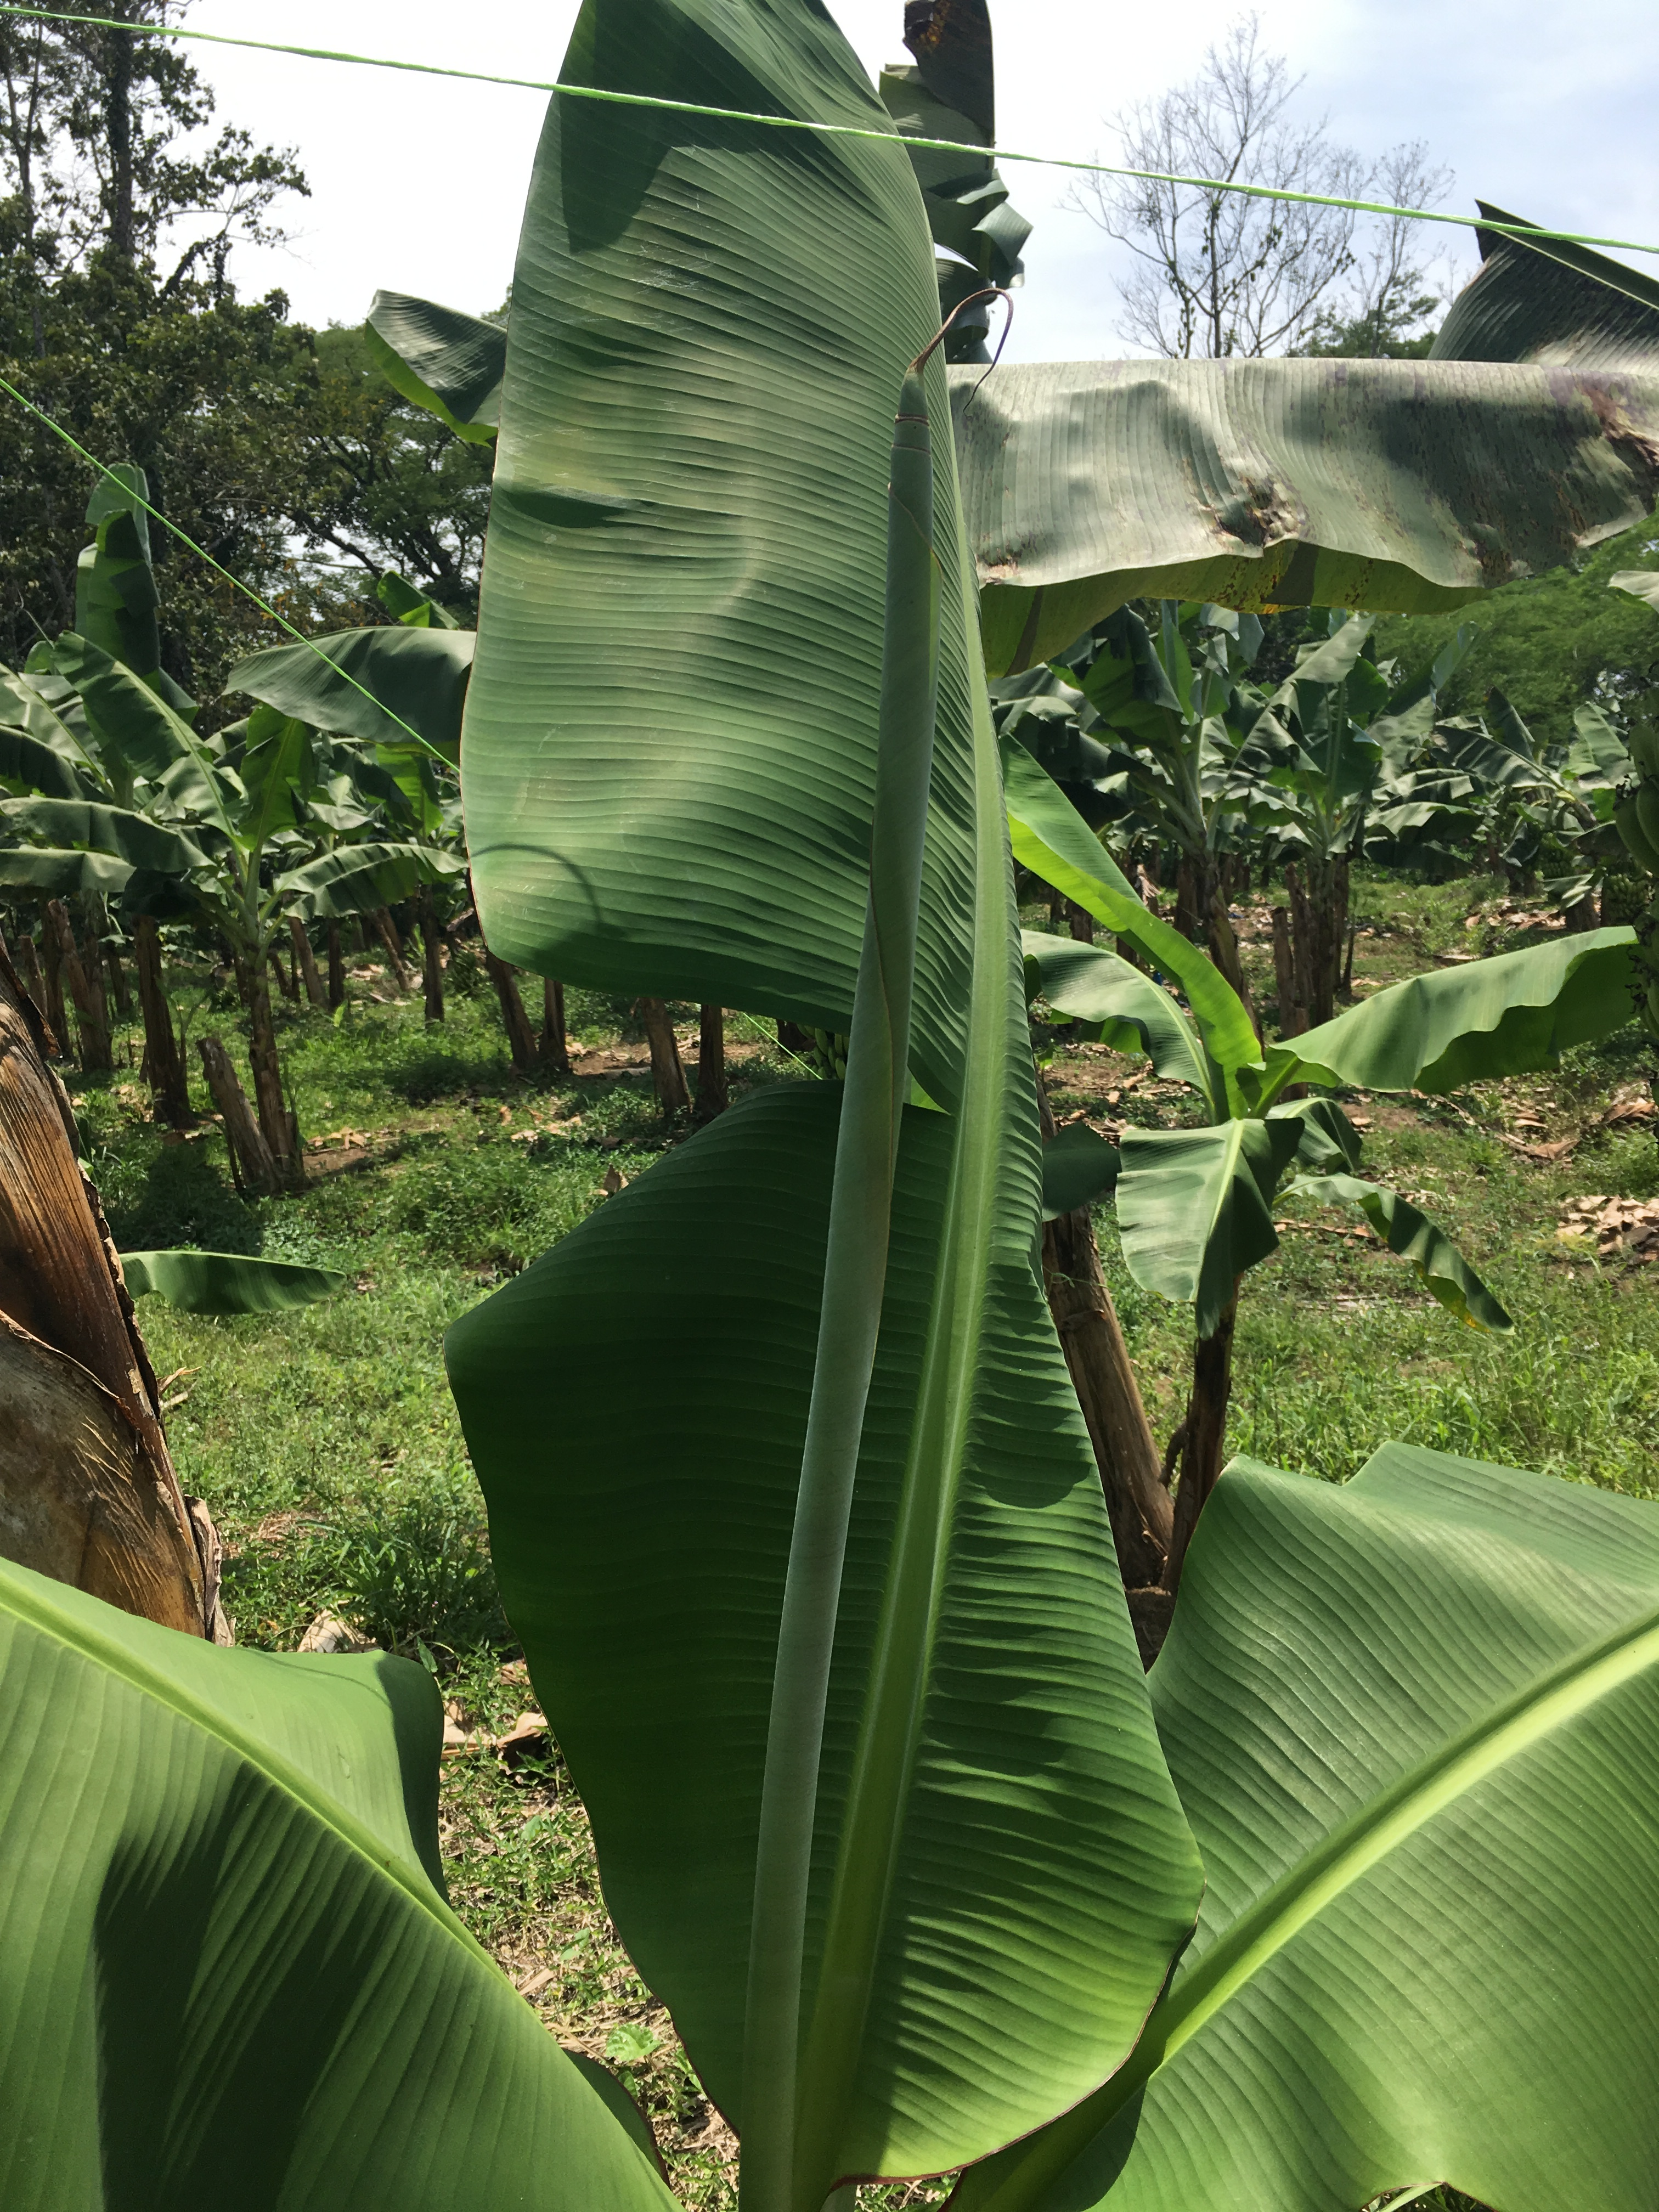candleleafs: (742, 291, 1009, 2193)
